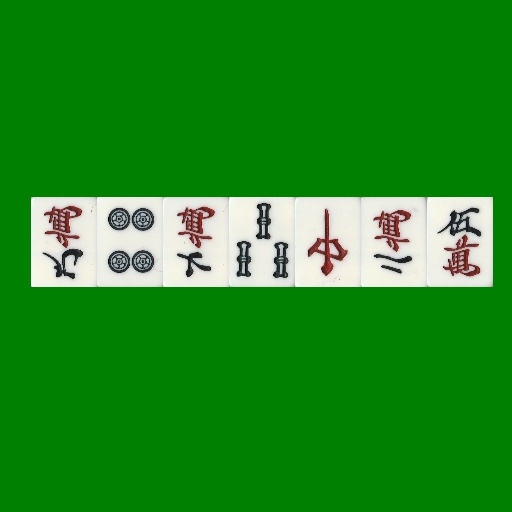2m: (361, 197, 427, 287)
3s: (229, 197, 295, 287)
4p: (97, 197, 163, 287)
5m: (427, 197, 493, 287)
7m: (163, 197, 229, 287)
9m: (31, 197, 97, 287)
tyun: (295, 197, 361, 287)
